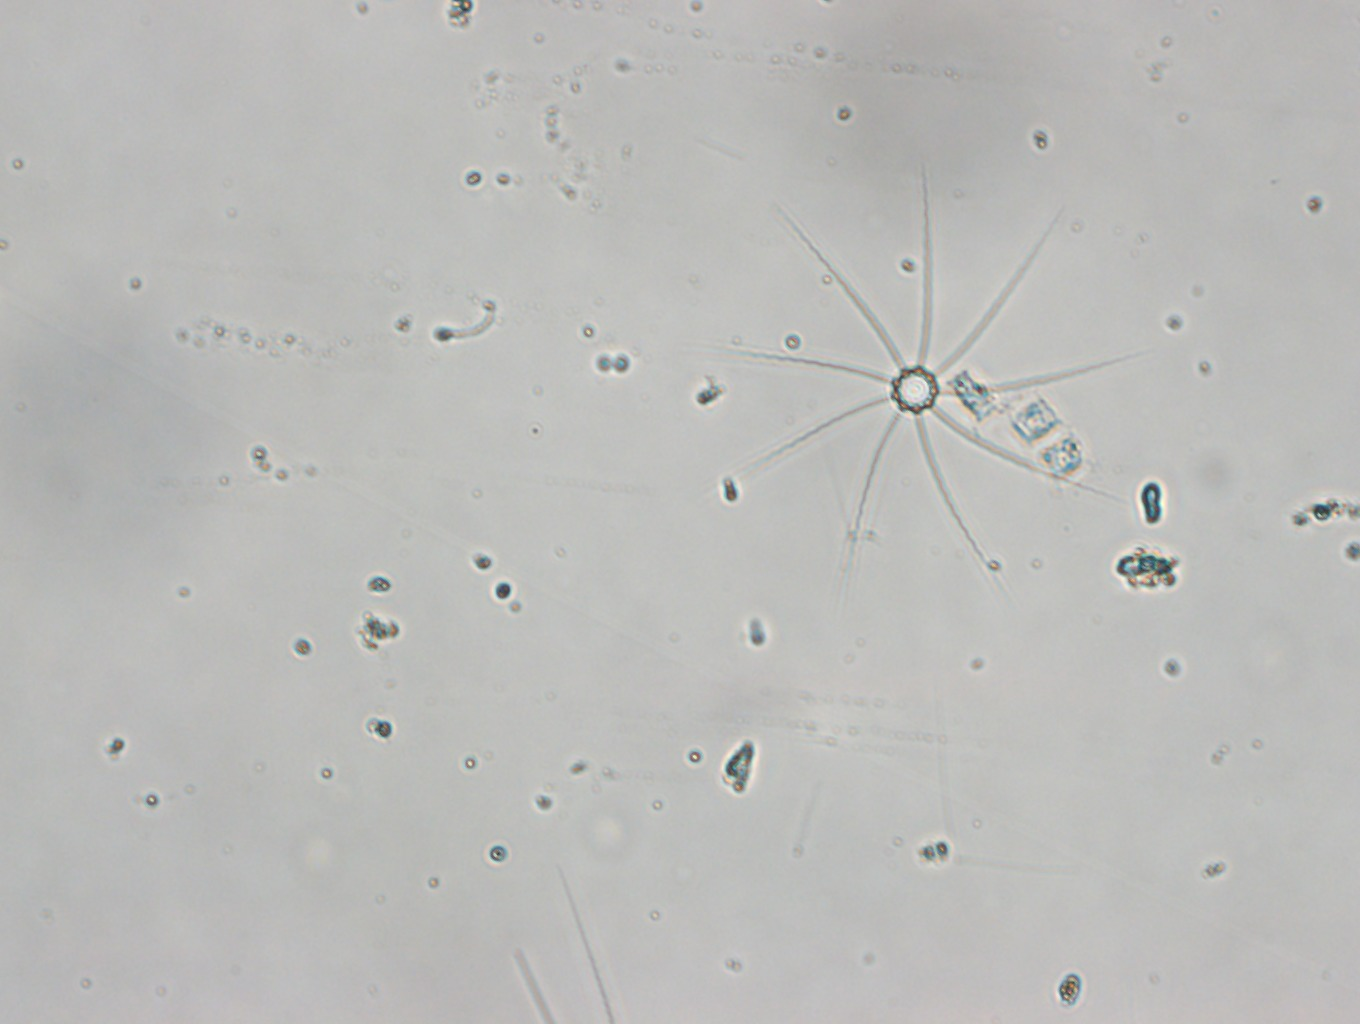bacteriastrum: (765, 159, 1136, 553)
